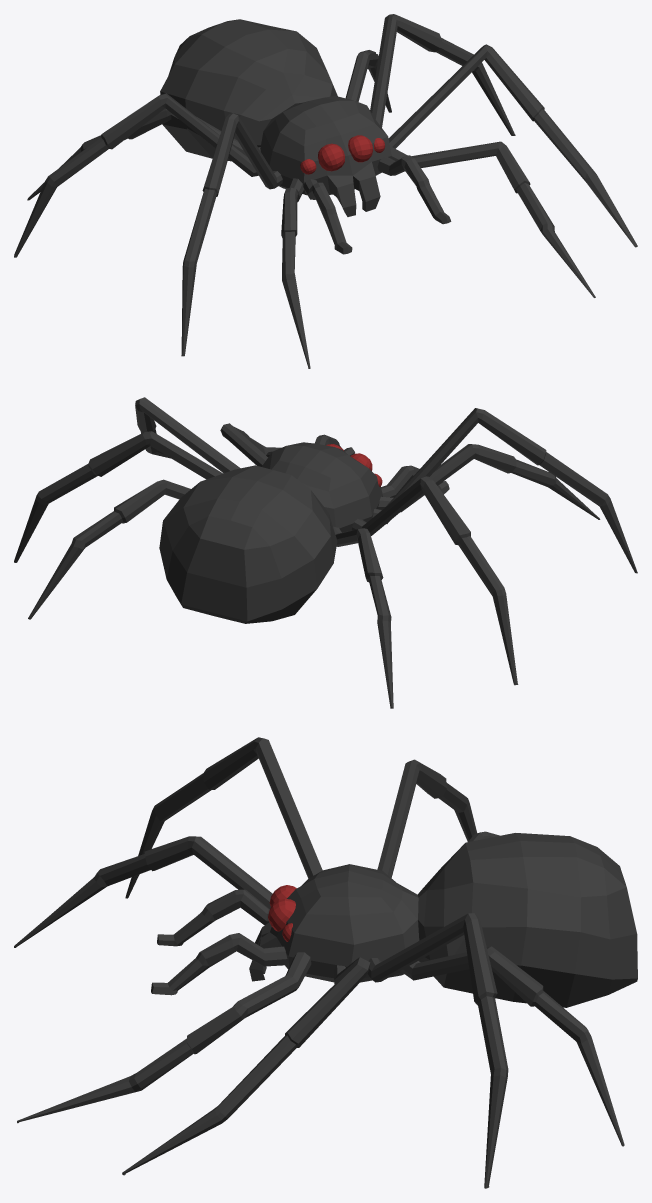
Rendered from araignee.glb.
The picture shows the model from 3 angles, top to bottom: view 1: azimuth 30°, elevation 25°; view 2: azimuth 150°, elevation 25°; view 3: azimuth 270°, elevation 25°; orthographic projection. The views are drawn at different scales.
Visible parts, largest first — view 1: Material, Material.001; view 2: Material; view 3: Material, Material.001.
Part boxes in pixels (<box>): Material: <box>14,14,637,368</box>; Material.001: <box>300,135,385,174</box>; Material: <box>14,397,637,708</box>; Material: <box>14,737,637,1188</box>; Material.001: <box>268,885,296,941</box>.
Size of the model in its own units: 5.91 by 2 by 5.08.
